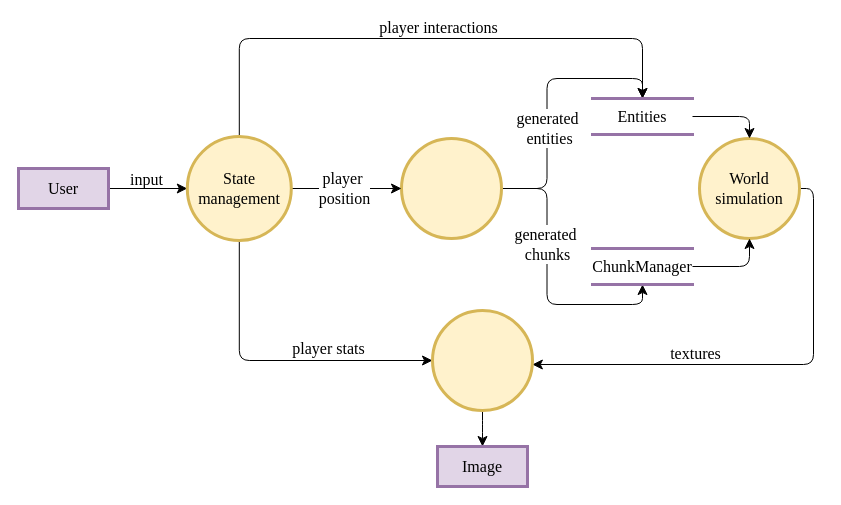
This 841x505 diagram has some shape labels left out. The centre of each missing label's shape, as x and y in pixels:
"Rendering" goes at (x=482, y=360).
"World generation" goes at (x=451, y=188).
